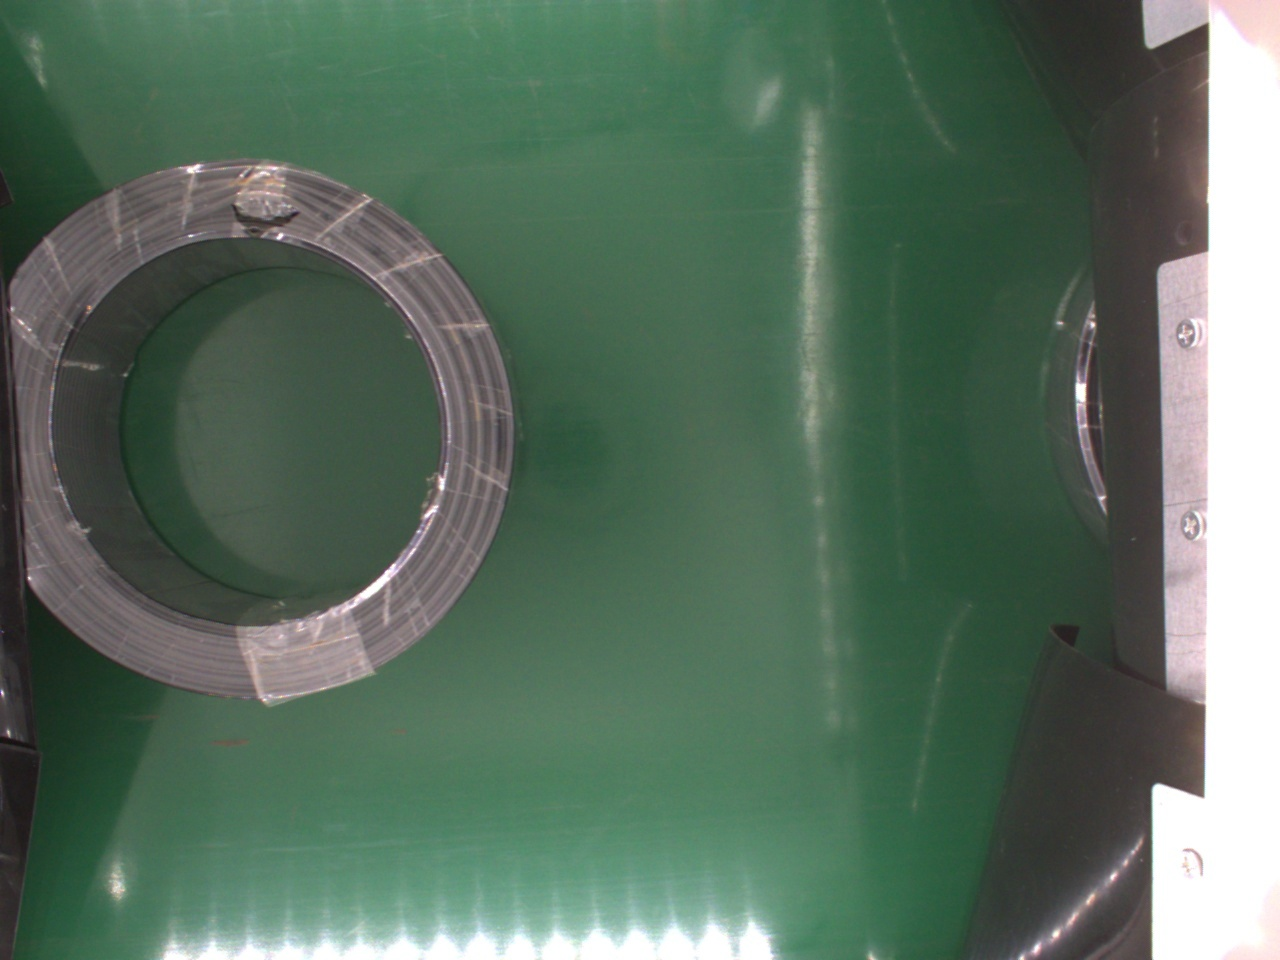black: (21, 161, 515, 701)
